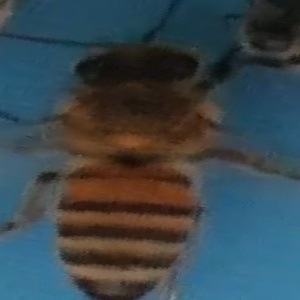bee: (3, 33, 237, 300)
